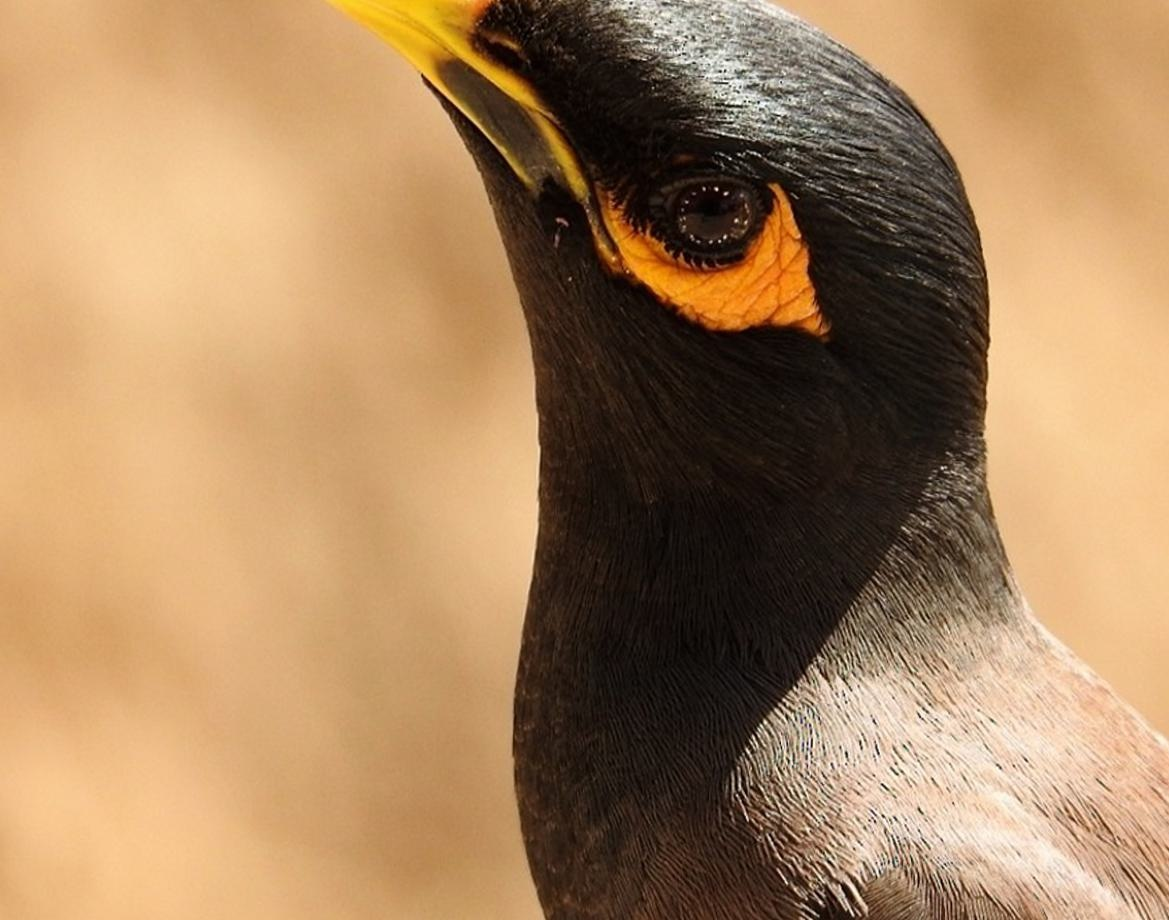myna: (372, 6, 1113, 894)
